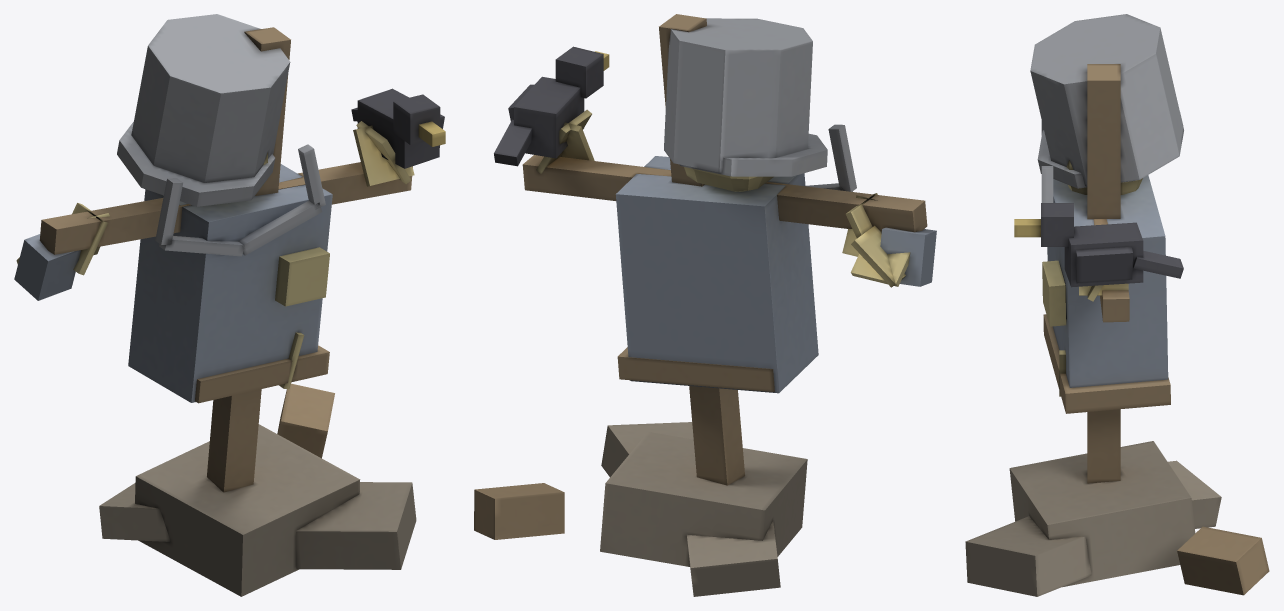
The model's file is bucketcrow.glb.
3 views of the same model, side by side, from view 1: azimuth 30°, elevation 25°; view 2: azimuth 150°, elevation 25°; view 3: azimuth 270°, elevation 25° (orthographic). The views are drawn at different scales.
Parts seen in each view (by area): view 1: bucketcrow; view 2: bucketcrow; view 3: bucketcrow.
Boxes of the visible parts, bbox=[...] form: bucketcrow: bbox=[14, 14, 445, 596]; bucketcrow: bbox=[474, 14, 936, 596]; bucketcrow: bbox=[965, 14, 1269, 596].
Bounding box in the file's own units: 2.74 × 3.36 × 1.83.
7 materials, 7 textured.
